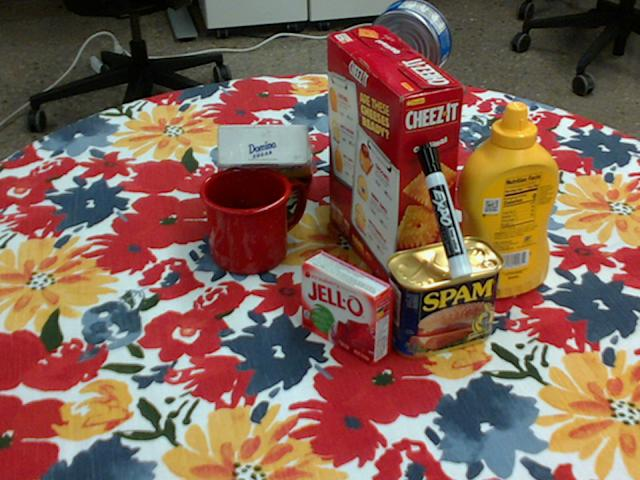cracker_box: (326, 27, 461, 296)
gelatin_box: (301, 249, 394, 363)
large_marker: (415, 142, 473, 277)
master_chef_can: (344, 59, 439, 211)
mug: (200, 165, 308, 274)
mustard_bottle: (451, 102, 559, 299)
potted_meat_can: (387, 236, 506, 358)
sugar_box: (218, 125, 313, 179)
tomato_soup_can: (465, 135, 539, 248)
tuna_fish_can: (366, 0, 450, 85)
